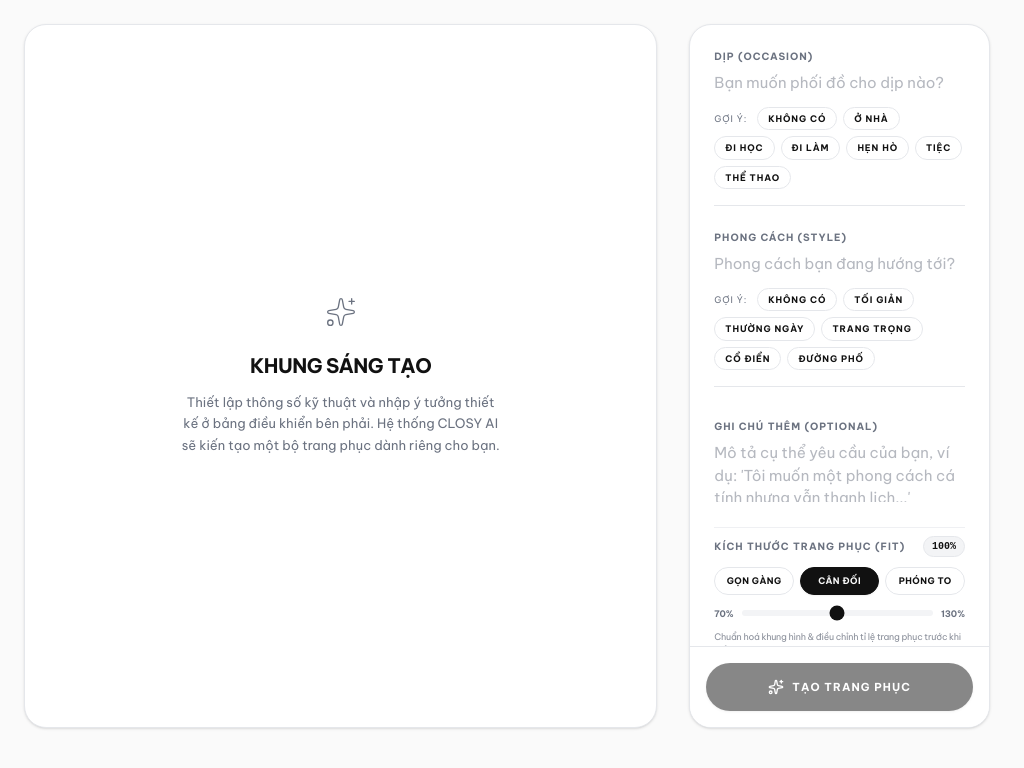
Scenario: AI stylist recommendation card › asks for confirmation before sending feedback and then locks the controls
This screenshot has width=1024, height=768.
What coordinates should you click on to do the following:
click the button "Đi làm"
I would click on:
 (810, 148)
Its box is [780,136,840,160].
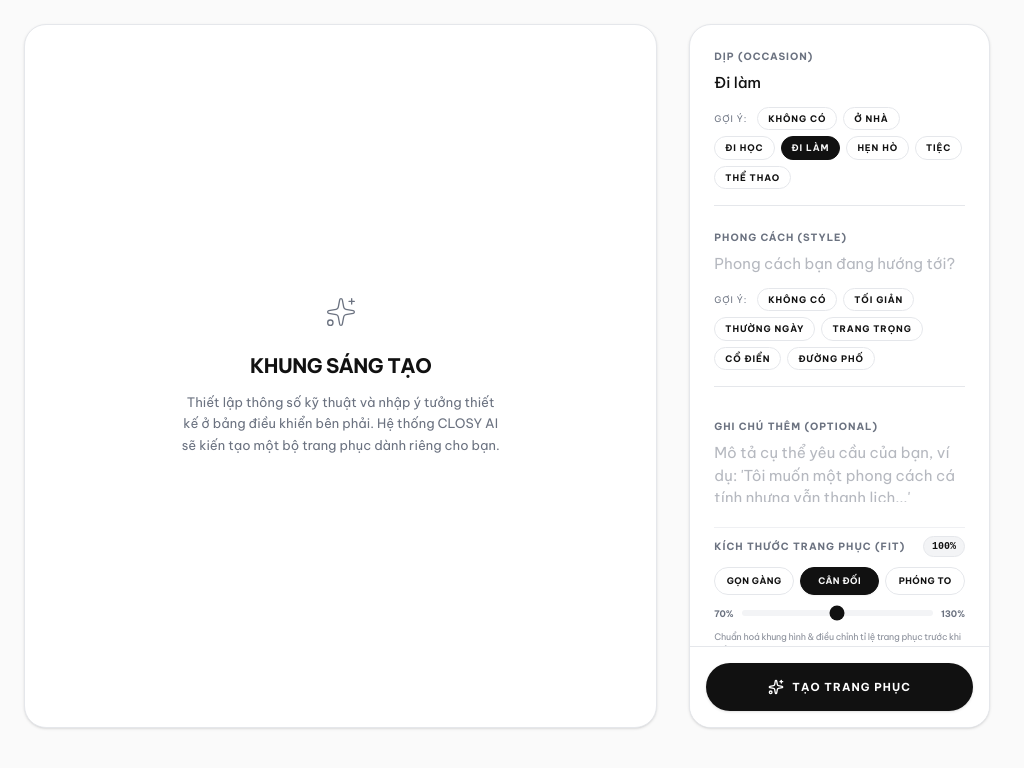
What coordinates should you click on to do the following:
click the button "TẠO TRANG PHỤC"
I would click on:
 (840, 687)
Its box is [706,662,973,711].
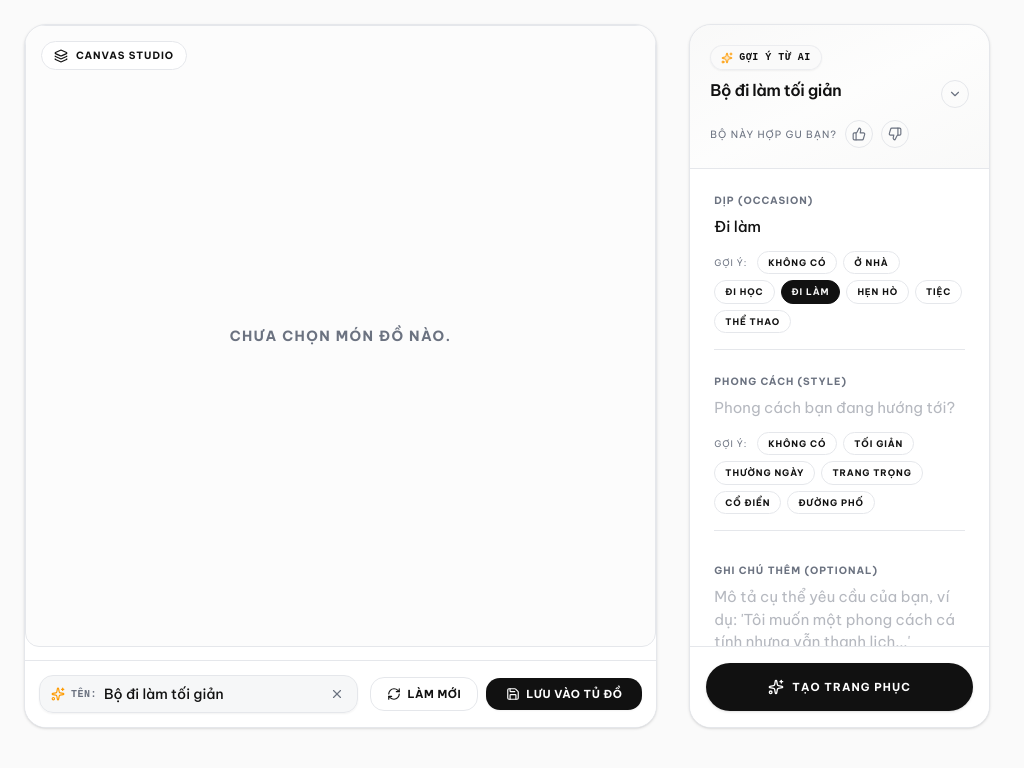
Check: the heading "Bộ đi làm tối giản" is shown, box [710,78,841,102]
What coordinates should you click on to do the following:
click the button named "Thích bộ đồ này"
I would click on:
 (859, 134)
Its box is [845,120,873,148].
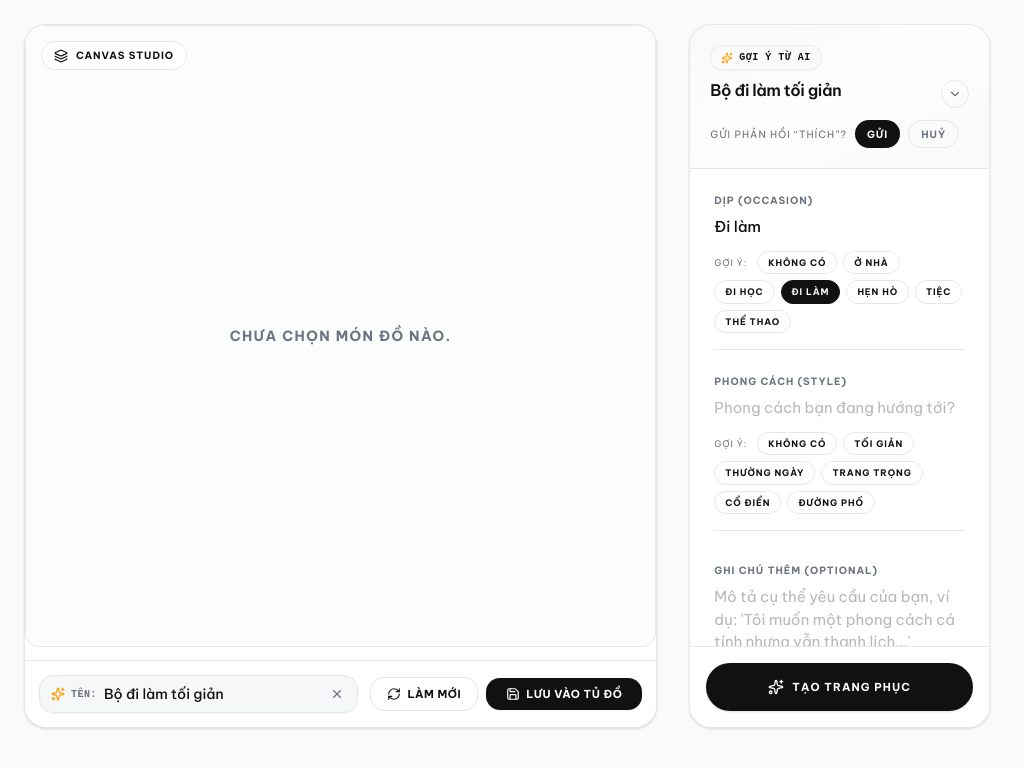
Check: the text "Gửi phản hồi “Thích”?" is shown, box [710,126,847,142]
What coordinates should you click on to do the following:
click the button "Gửi"
I would click on:
 (878, 134)
Its box is [855,120,900,148].
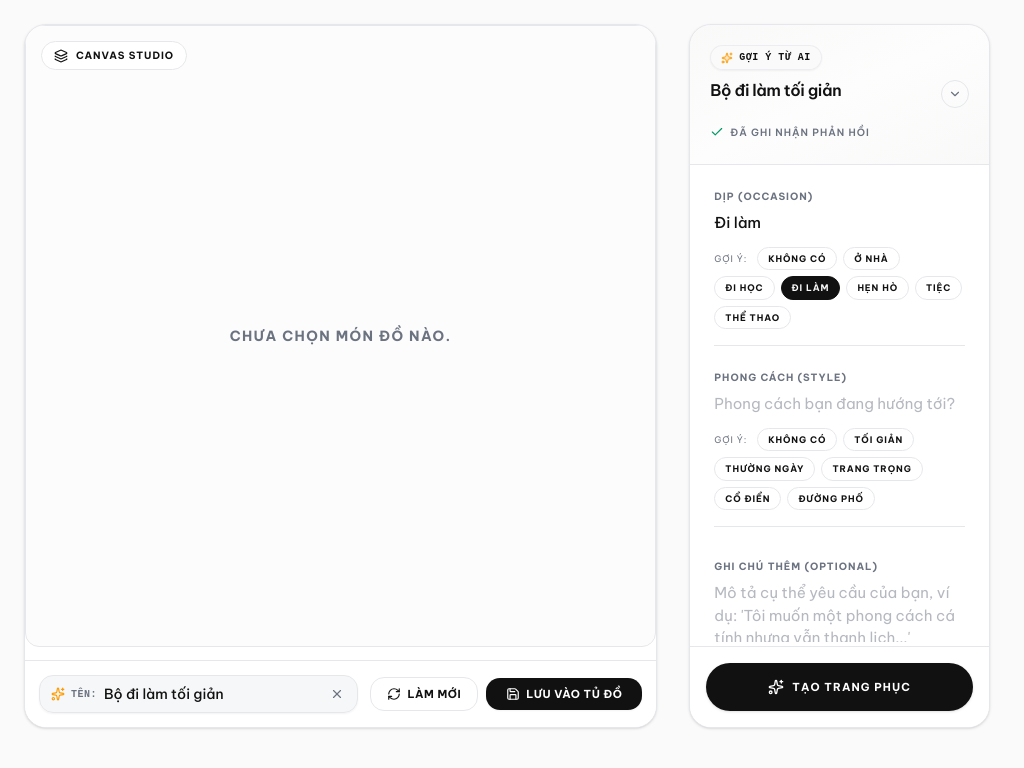
Check: the text "Đã ghi nhận phản hồi" is shown, box [710,124,870,140]
